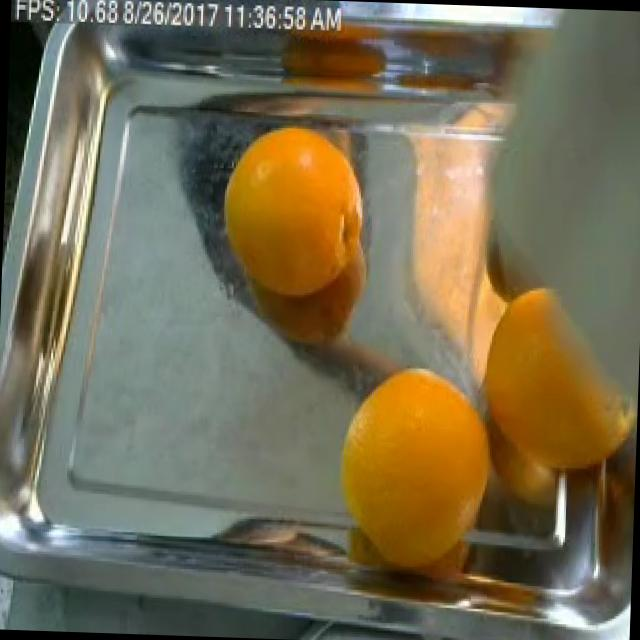Fruit: (202, 110, 391, 322)
